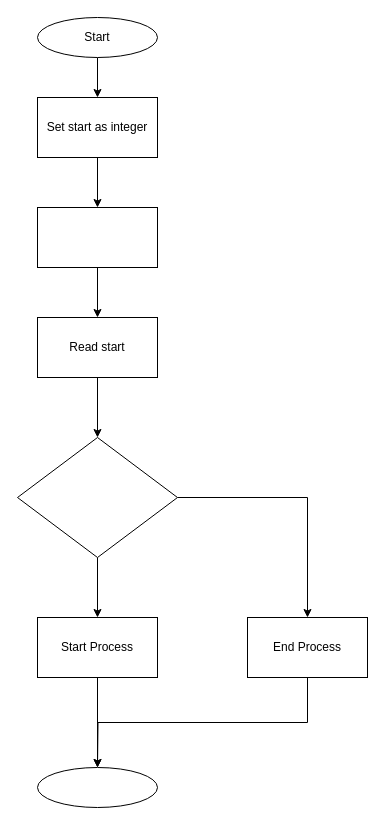
Some shapes in this 385 by 825 pixel diagram are drawn without their labels. Here are the shapes that lost their labels. From the top down, the centre of each, then its label:
At (x=97, y=237): "Do you enable or disable?".
At (x=97, y=497): "if start = 1".
